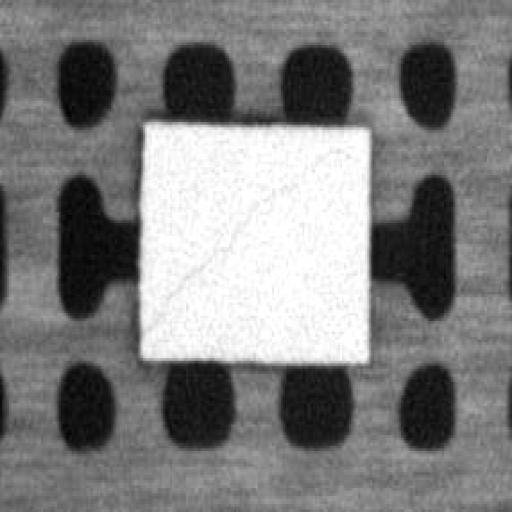DIE_CRACK: (163, 144, 351, 302)
